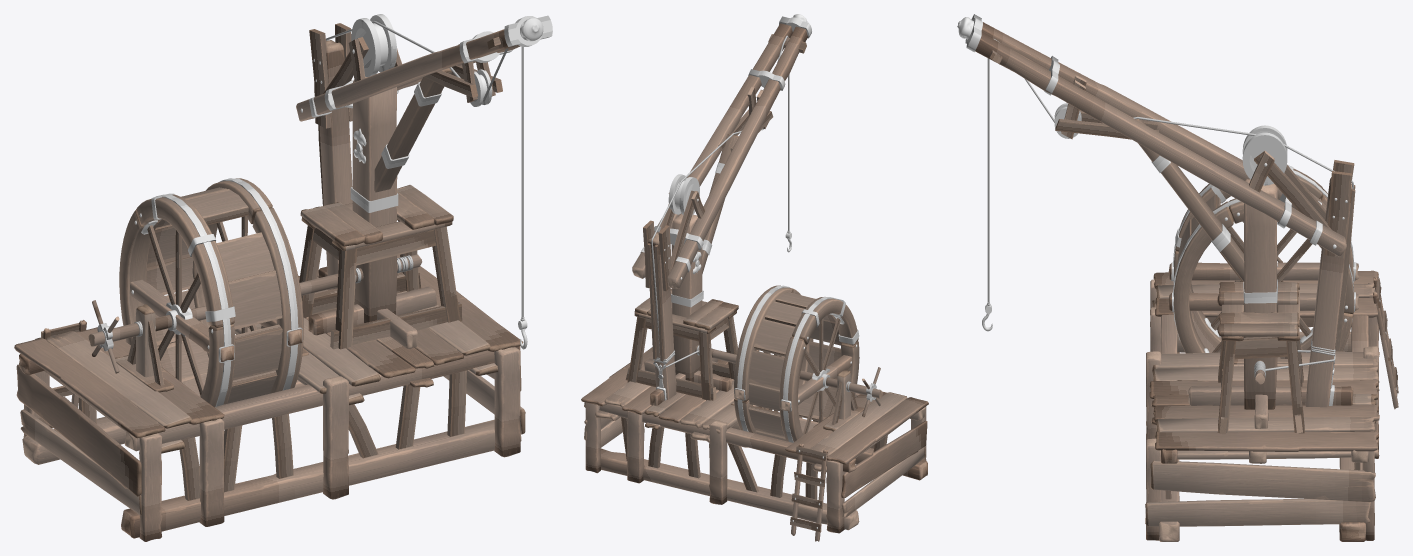
File: SM_Crane_02.fbx
3 views of the same model, side by side, from view 1: azimuth 30°, elevation 25°; view 2: azimuth 150°, elevation 25°; view 3: azimuth 270°, elevation 25° (orthographic). The views are drawn at different scales.
Parts seen in each view (by area): view 1: SM_Crane_02_LOD0; view 2: SM_Crane_02_LOD0; view 3: SM_Crane_02_LOD0.
Part boxes in pixels (left/top/right/bottom): SM_Crane_02_LOD0: left=14, top=14, right=552, bottom=541; SM_Crane_02_LOD0: left=581, top=14, right=928, bottom=541; SM_Crane_02_LOD0: left=957, top=14, right=1398, bottom=541.
Size of the model in its own units: 761 by 808 by 994.
